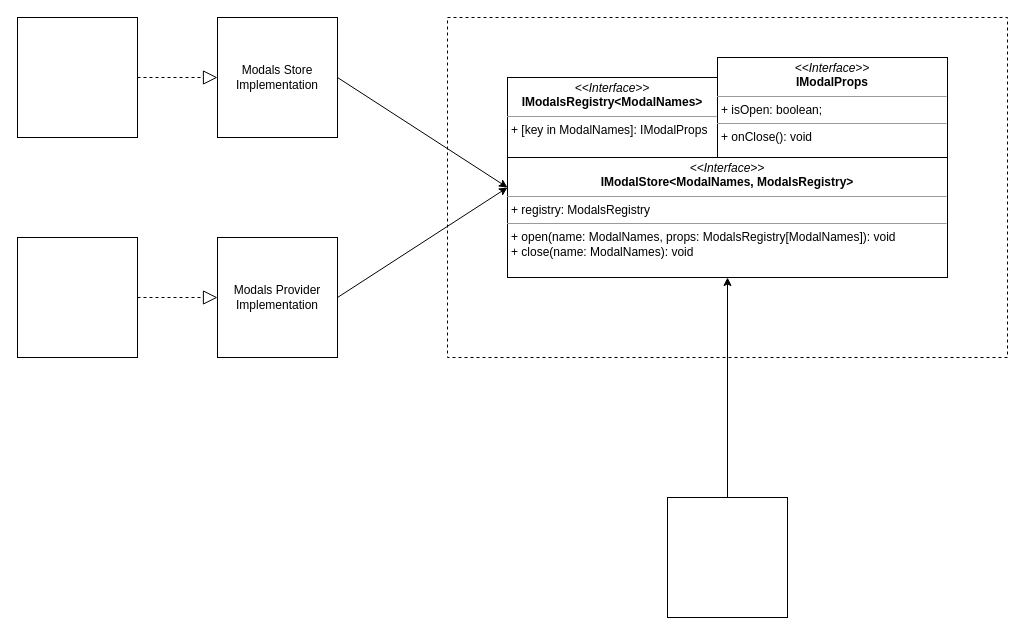
Image size: 1025x635. Some labels were removed from this diagram. Each missing label, with the box of its shape:
Application: (666, 496, 788, 618)
Modals Provider Factory: (16, 236, 138, 358)
Modals Store Factory: (16, 16, 138, 138)
